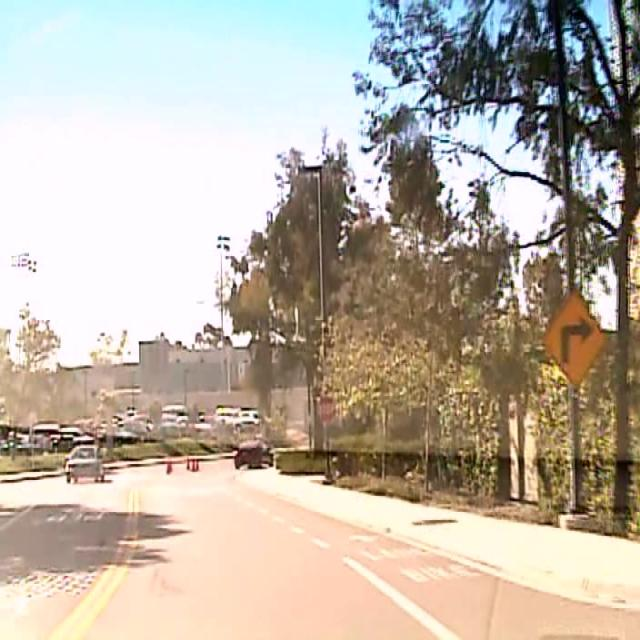stop: (316, 394, 336, 422)
